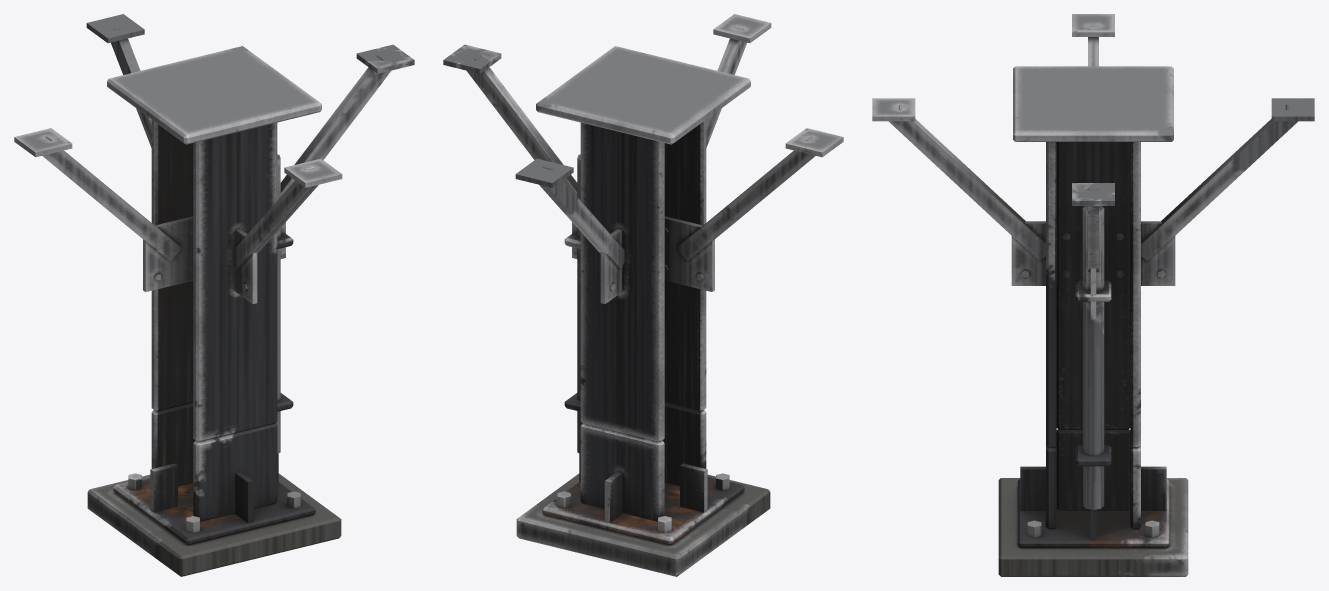
File: nodexeus-set-post-2.glb
3 renders of one model, left to right at view 1: azimuth 30°, elevation 25°; view 2: azimuth 150°, elevation 25°; view 3: azimuth 270°, elevation 25°, orthographic.
Parts seen in each view (by area): view 1: set-post-2; view 2: set-post-2; view 3: set-post-2.
Part boxes in pixels (bbox=[...]): set-post-2: bbox=[14, 14, 414, 576]; set-post-2: bbox=[443, 14, 843, 576]; set-post-2: bbox=[872, 14, 1314, 576].
Bounding box in the file's own units: 2.47 × 2.7 × 2.47.
1 material, 1 textured.
